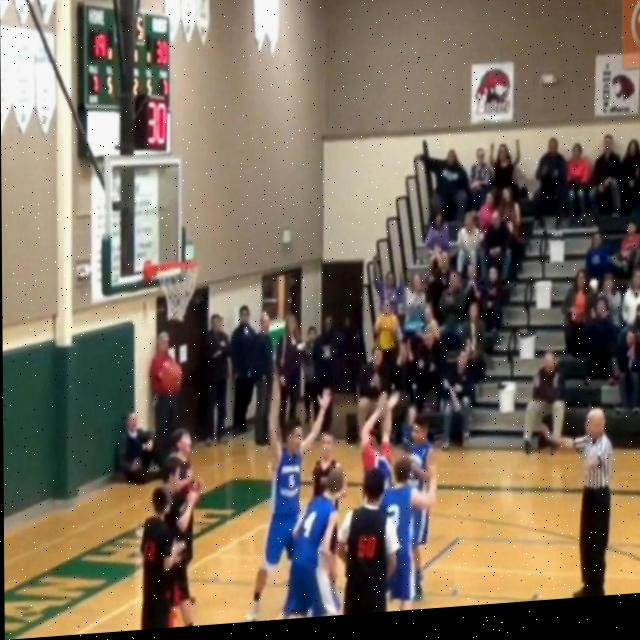basketball: (162, 358, 182, 394)
hoop: (155, 260, 199, 324)
